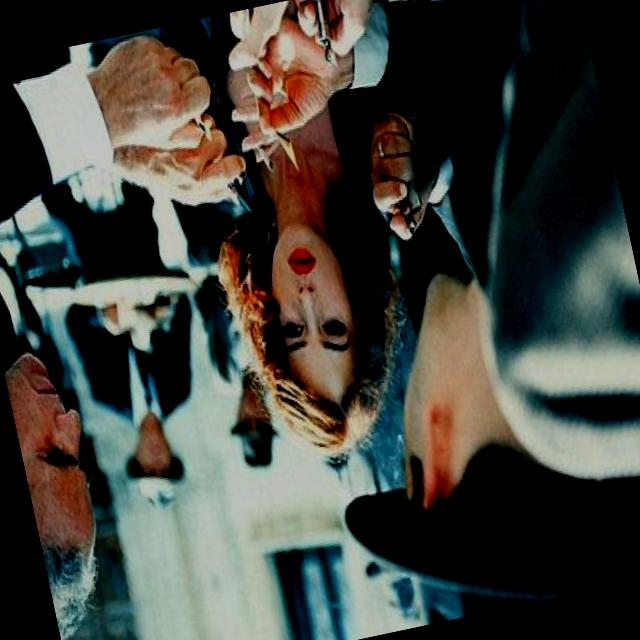cigarette: (258, 137, 278, 178)
